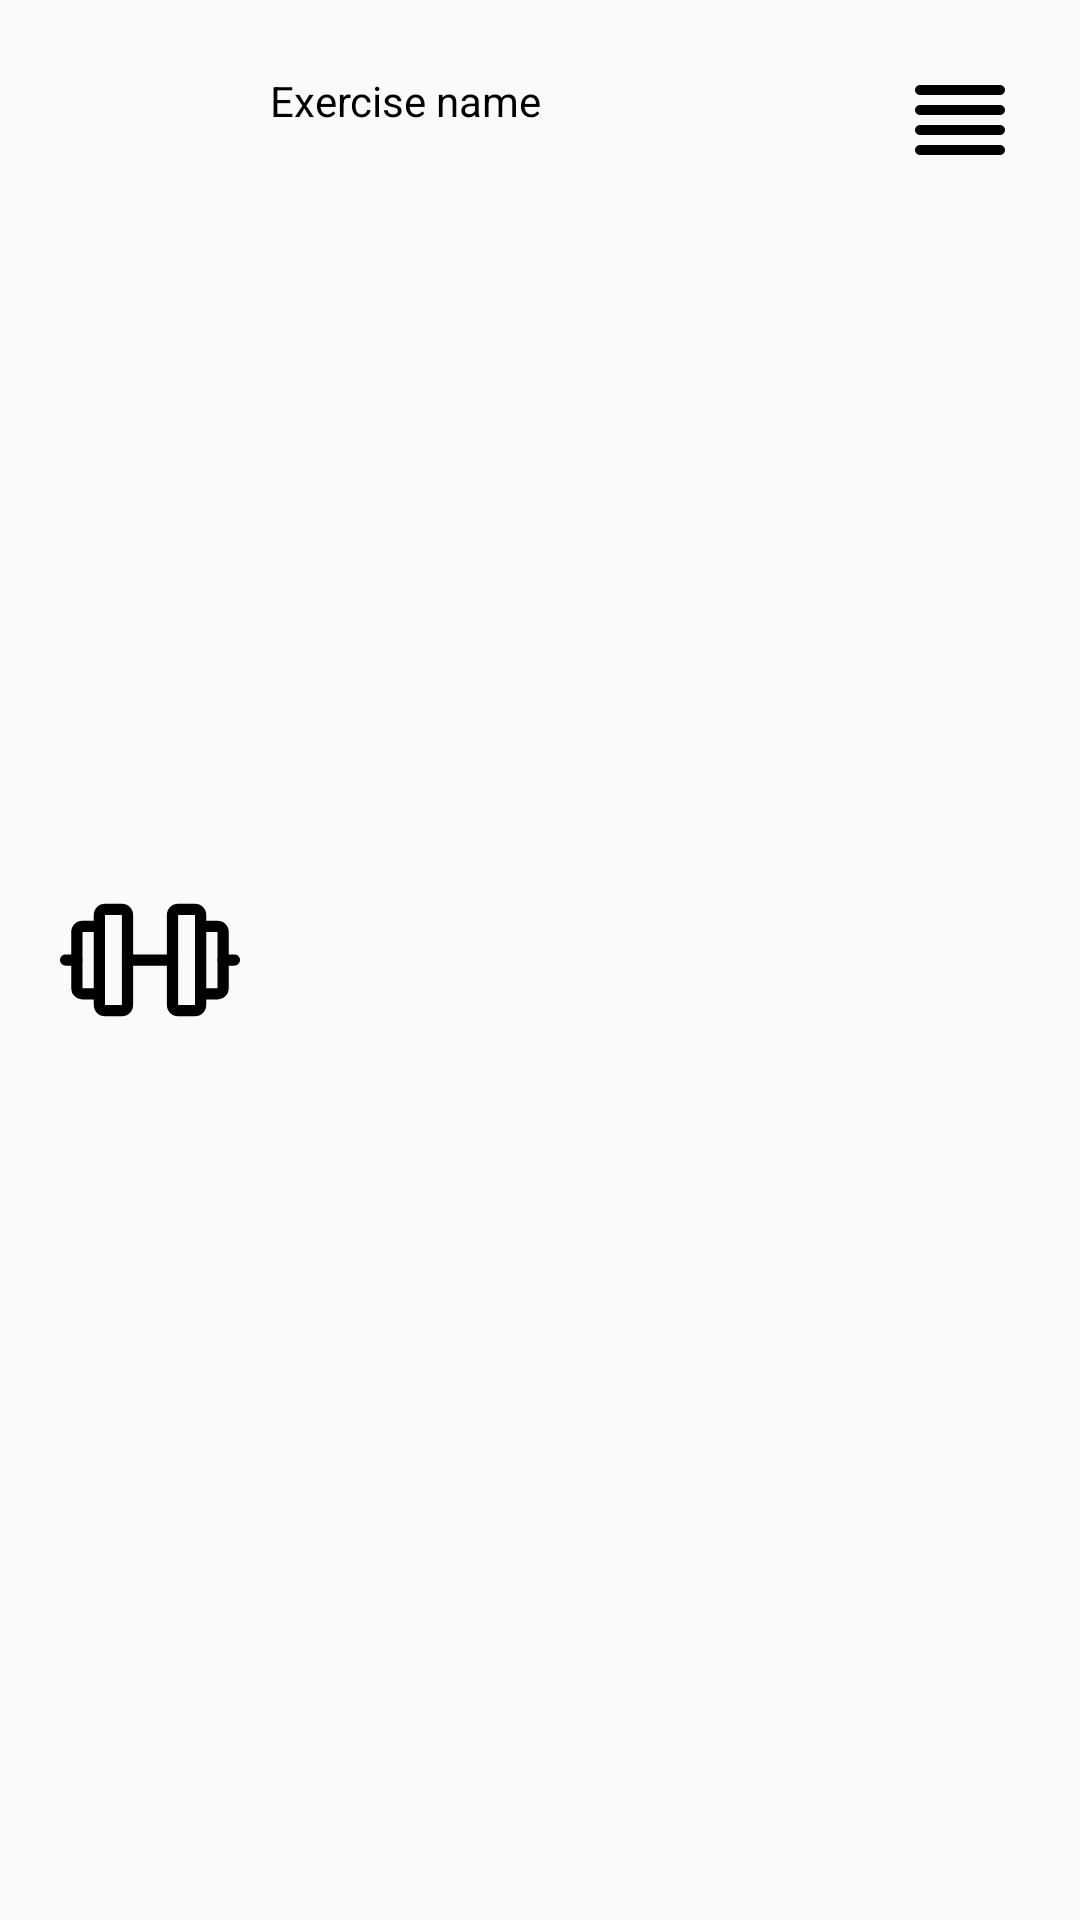

Locate icon controls on the screen. Image size 1080 × 1920, boxes as box(x1, y1, x2, y2).
barbell: box(60, 903, 240, 1017)
reorder: box(915, 85, 1005, 155)
